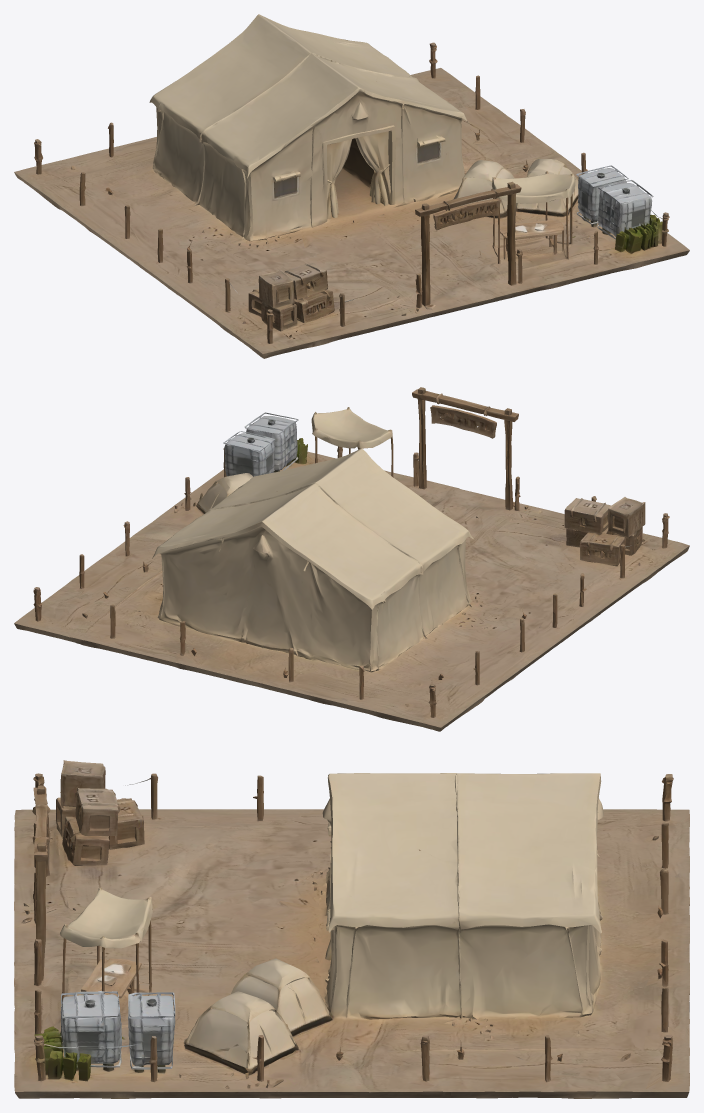
File: refugee_camp.glb
3 renders of one model, top to bottom at view 1: azimuth 30°, elevation 25°; view 2: azimuth 150°, elevation 25°; view 3: azimuth 270°, elevation 25°, orthographic. The views are drawn at different scales.
Parts seen in each view (by area): view 1: RefugeeCamp; view 2: RefugeeCamp; view 3: RefugeeCamp.
Boxes of the visible parts, x1,y1,x2,y2 form: RefugeeCamp: [14, 14, 689, 358]; RefugeeCamp: [14, 387, 689, 731]; RefugeeCamp: [14, 760, 689, 1098].
Size of the model in its own units: 18.84 by 5.73 by 19.02.
Materials: 1 (1 with a texture image).
